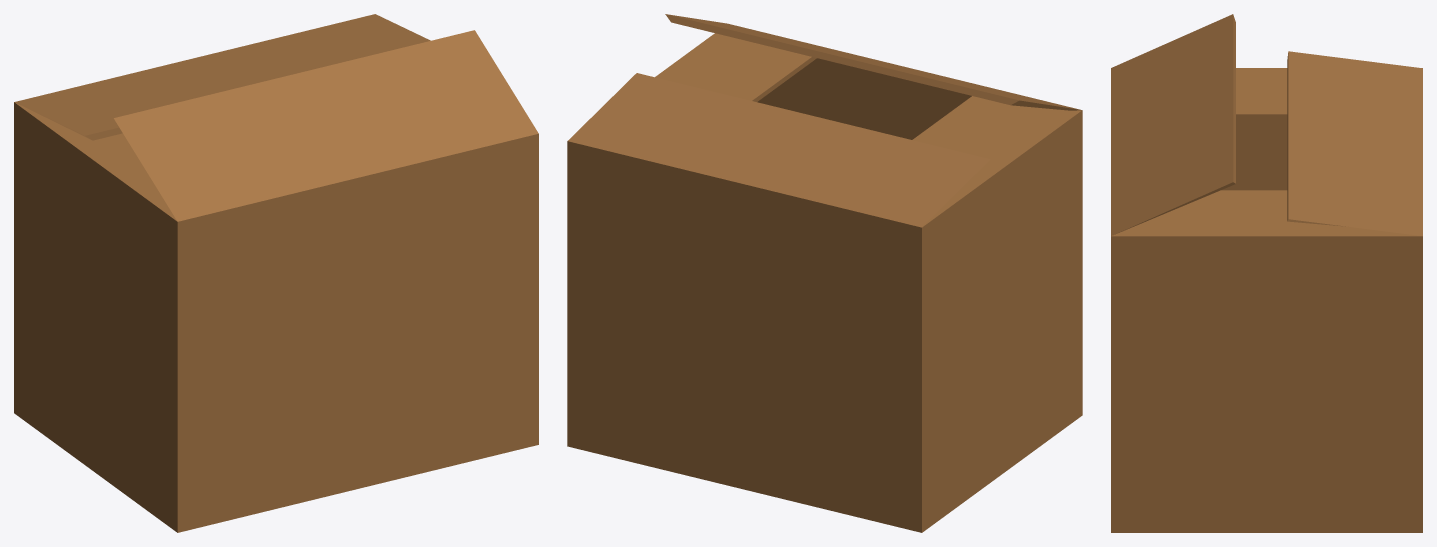
3 views of the same model, side by side, from view 1: azimuth 30°, elevation 25°; view 2: azimuth 150°, elevation 25°; view 3: azimuth 270°, elevation 25° (orthographic). The views are drawn at different scales.
Visible parts, largest first — view 1: Box; view 2: Box; view 3: Box.
Part boxes in pixels (x1,y1,x2,y2): Box: (14, 14, 538, 532); Box: (567, 14, 1082, 532); Box: (1111, 14, 1422, 532).
Size of the model in its own units: 102 by 99.52 by 80.2.
